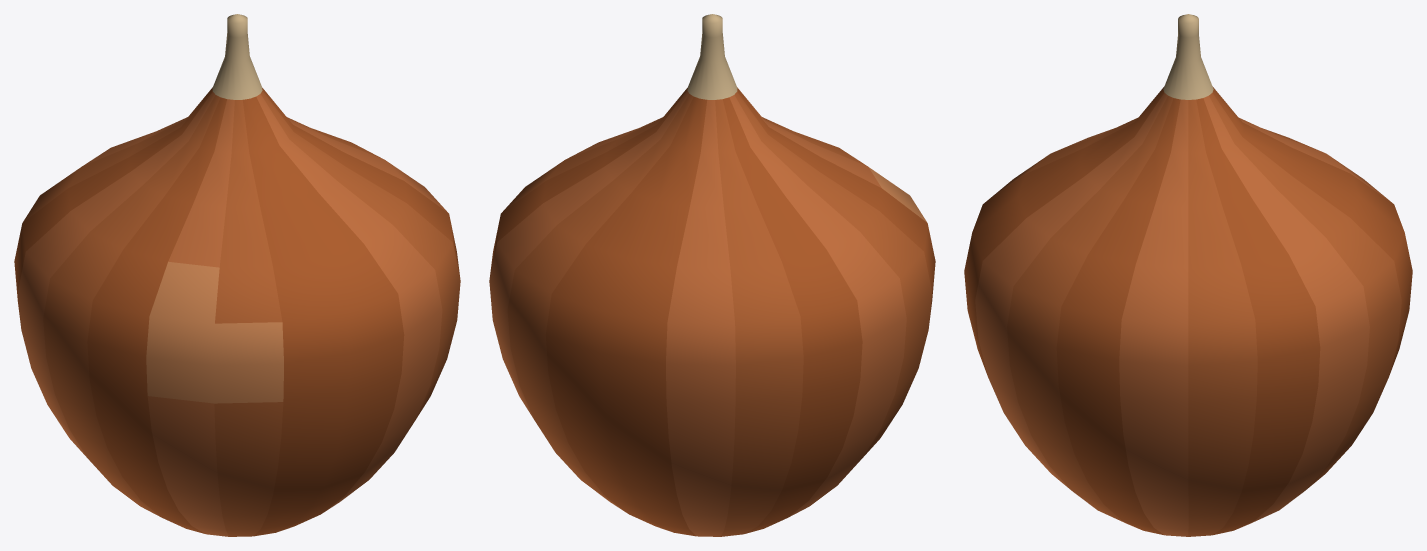
Rendered from Onion.glb.
3 renders of one model, left to right at view 1: azimuth 30°, elevation 25°; view 2: azimuth 150°, elevation 25°; view 3: azimuth 270°, elevation 25°, orthographic.
Visible parts, largest first — view 1: Onion; view 2: Onion; view 3: Onion.
Part boxes in pixels (bbox=[...]): Onion: bbox=[14, 14, 460, 536]; Onion: bbox=[489, 14, 935, 536]; Onion: bbox=[964, 14, 1412, 536].
Size of the model in its own units: 0.52 by 0.655 by 0.52.
